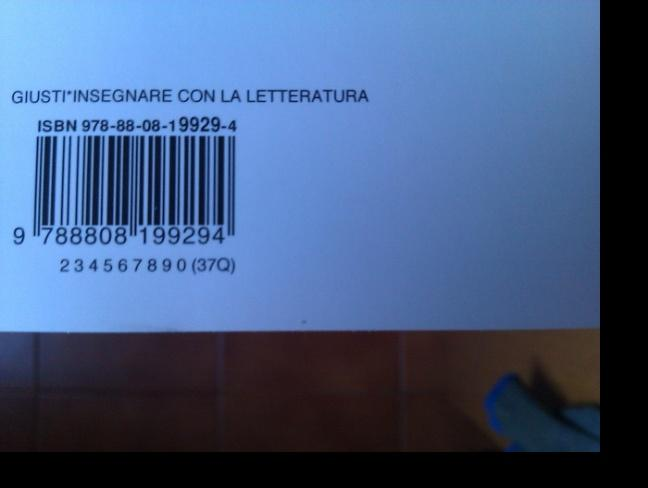Barcode: (3, 131, 242, 252)
